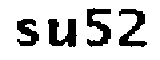2: (116, 6, 149, 51)
5: (82, 6, 114, 50)
s: (10, 17, 42, 49)
u: (44, 17, 81, 50)
